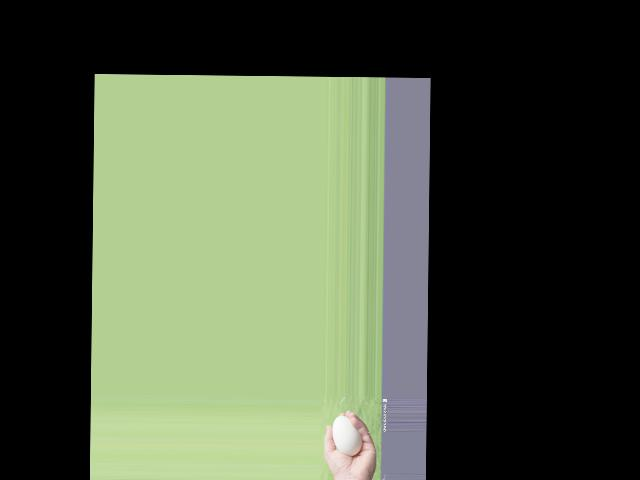egg: (332, 416, 363, 457)
